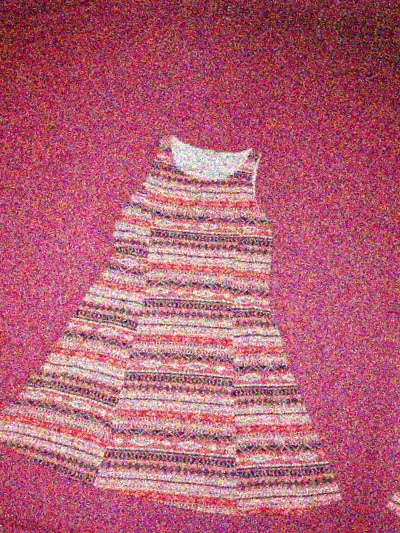Dress: (0, 94, 399, 533), (378, 159, 400, 533)
